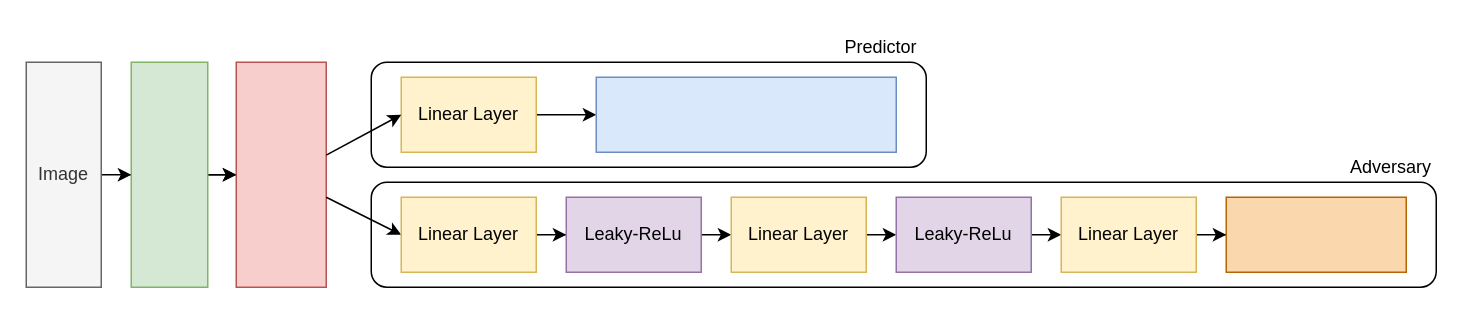
The diagram is 1463 pixels wide and 314 high, and some of its shapes have lost their labels. Here are the shapes that lost their labels. From the top down, the centre of each, then its label:
(x=745, y=114): Facial Landmark Location Predictions
(x=169, y=174): ResNet -18
(x=280, y=174): Features (Avg Pool Layer)
(x=1315, y=234): Sensitive Attribute Predictions
